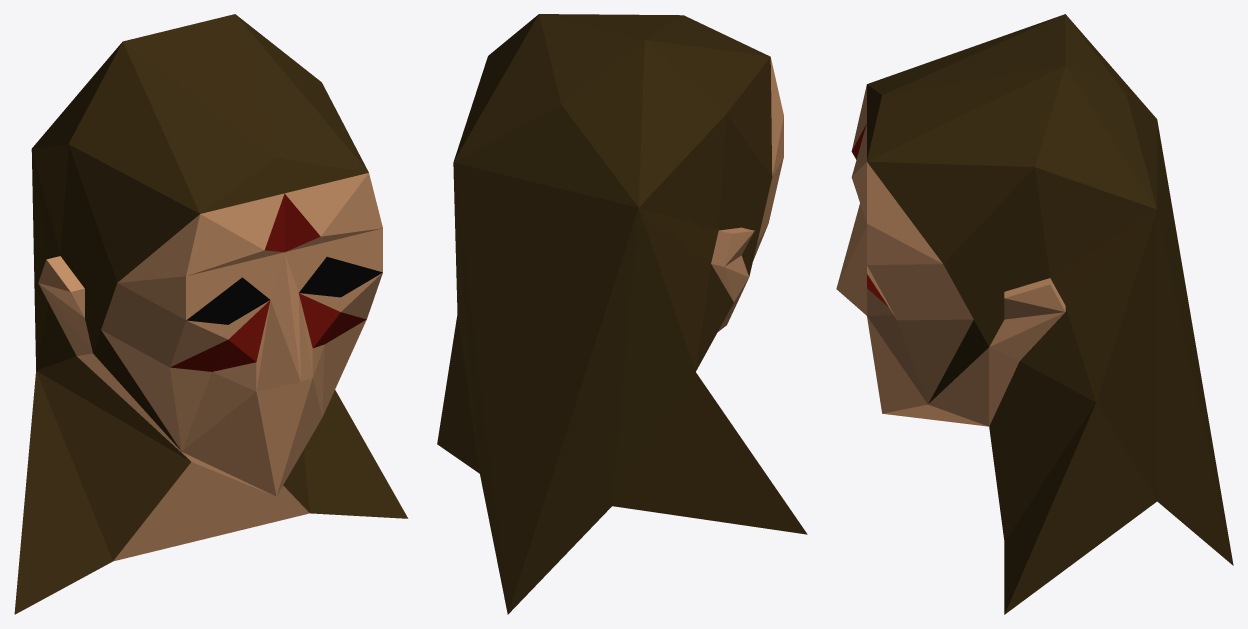
The model's file is model_404_npc.obj.
The picture shows the model from 3 angles, left to right: view 1: azimuth 30°, elevation 25°; view 2: azimuth 150°, elevation 25°; view 3: azimuth 270°, elevation 25°; orthographic projection. The views are drawn at different scales.
Visible parts, largest first — view 1: 404; view 2: 404; view 3: 404.
Part boxes in pixels (x1=…): 404: x1=14, y1=14, x2=408, y2=614; 404: x1=437, y1=14, x2=807, y2=614; 404: x1=836, y1=14, x2=1233, y2=614.
Size of the model in its own units: 28 by 38 by 26.
